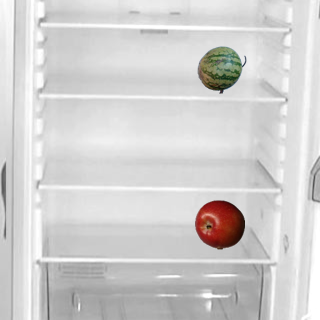Apple Braeburn: (194, 199, 244, 249)
Watermelon: (196, 44, 246, 94)
